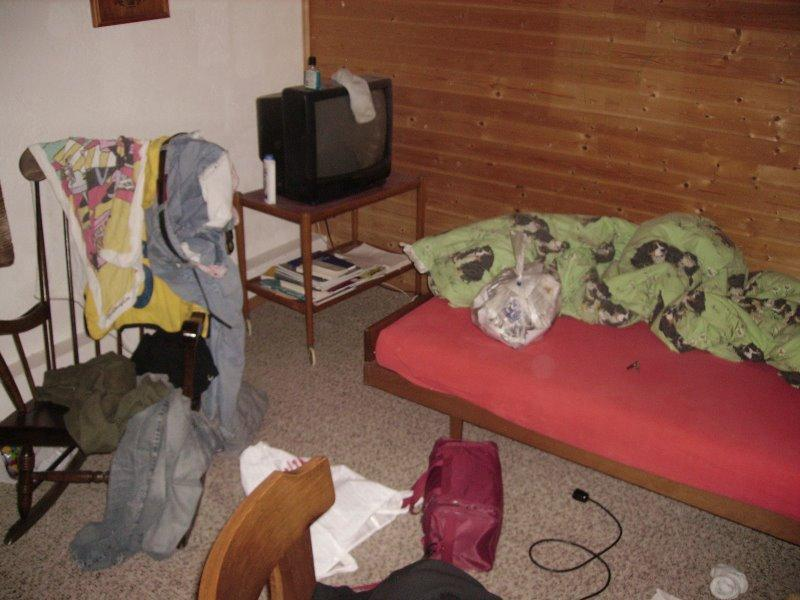Cama: (390, 233, 795, 548)
